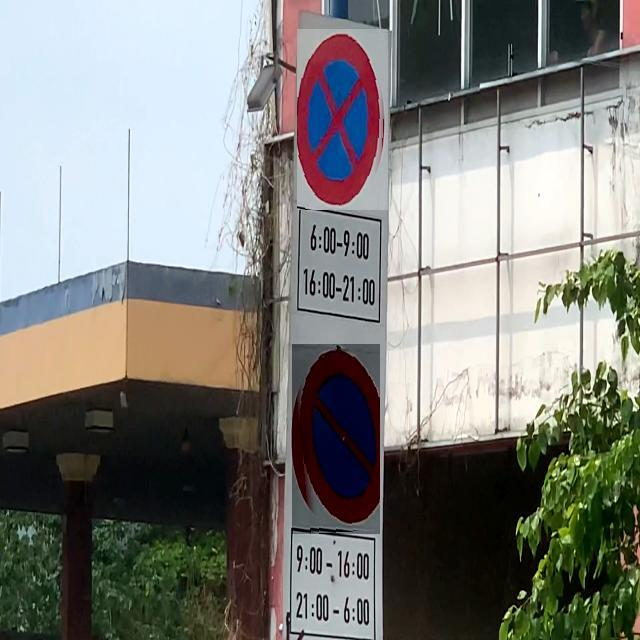P-130: (297, 29, 388, 210)
P-131a: (292, 344, 380, 534)
